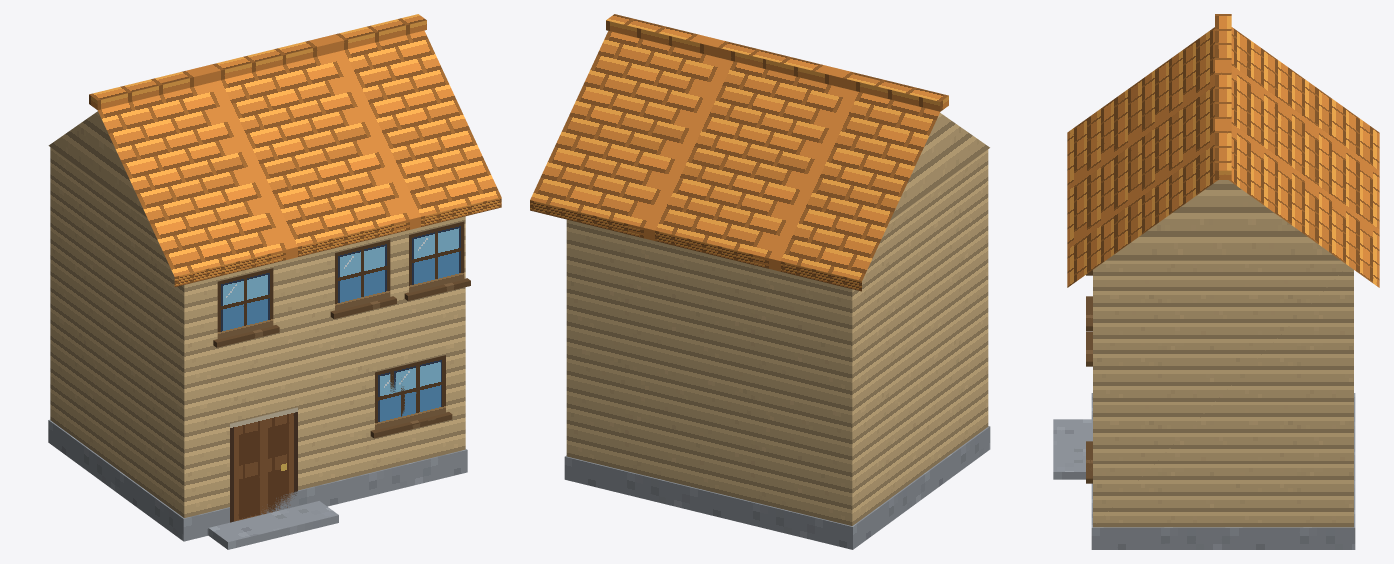
The model's file is house_3.glb.
3 renders of one model, left to right at view 1: azimuth 30°, elevation 25°; view 2: azimuth 150°, elevation 25°; view 3: azimuth 270°, elevation 25°, orthographic. The views are drawn at different scales.
Parts seen in each view (by area): view 1: house_3; view 2: house_3; view 3: house_3.
Part boxes in pixels (x1,y1,x2,y2): house_3: [48, 14, 501, 549]; house_3: [530, 14, 990, 549]; house_3: [1053, 14, 1379, 549].
Size of the model in its own units: 5.34 by 6.2 by 4.7.
Materials: 6 (6 with a texture image).
